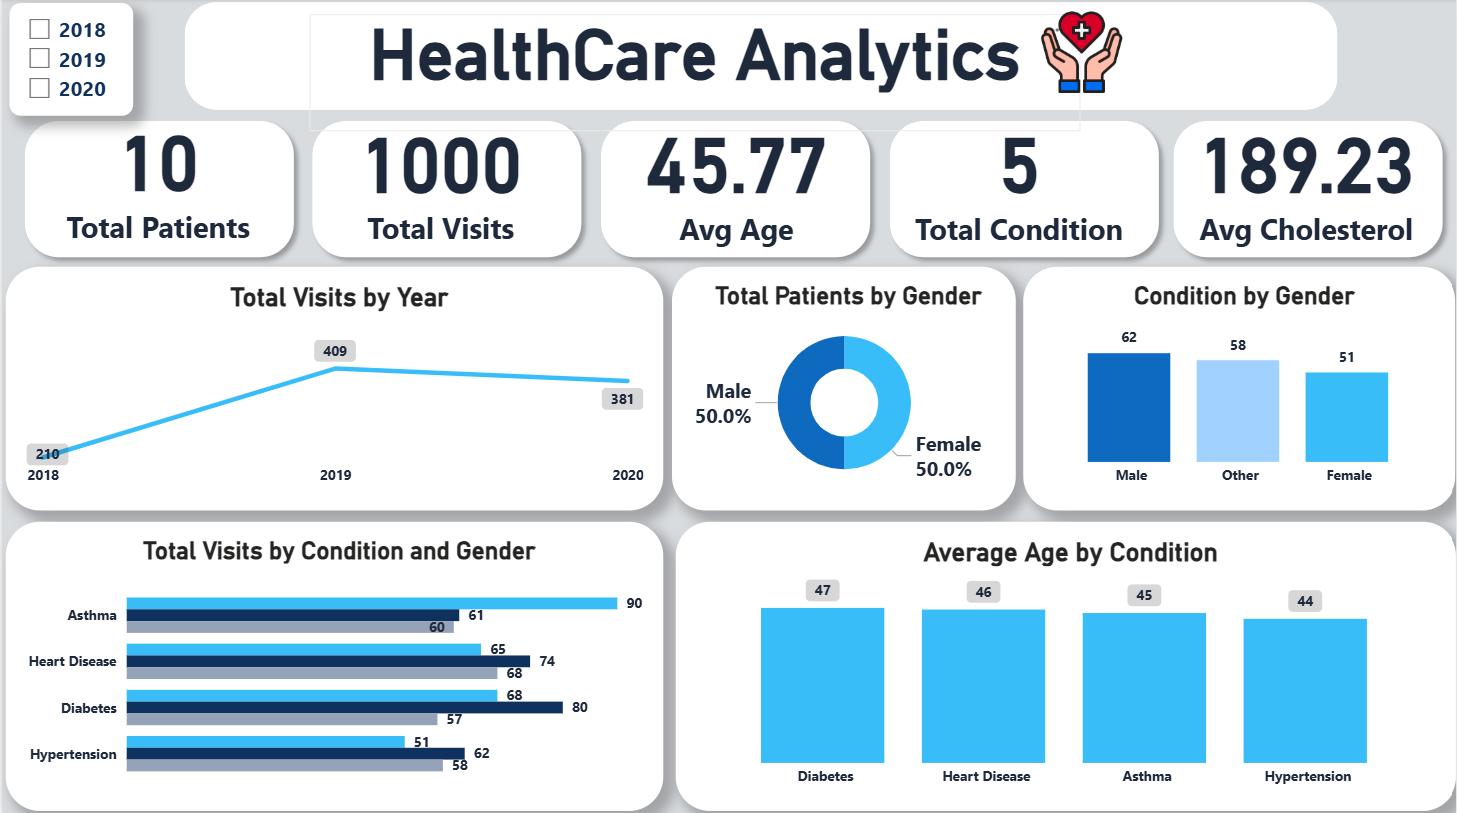

The dashboard page shown, as its layout file describes it:
{"tool":"powerbi","page":{"name":"Overview","canvas":[1280,720],"ordinal":0},"visuals":[{"type":"shape","box":[160.7,3.6,1014.3,95.2],"z":0},{"type":"shape","box":[1021.4,98.8,254.8,138.1],"z":1000},{"type":"shape","box":[771.4,98.8,254.8,138.1],"z":2000},{"type":"shape","box":[517.9,98.8,254.8,138.1],"z":3000},{"type":"shape","box":[264.3,98.8,254.8,138.1],"z":4000},{"type":"shape","box":[10.7,98.8,254.8,138.1],"z":5000},{"type":"textbox","title":"HealthCare Analytics","box":[270.5,14.3,678.4,103.4],"z":6000},{"type":"image","box":[878.6,4.4,142.9,86.9],"z":7000},{"type":"card","fields":{"Values":["Measures (2).Total Patients"]},"box":[35.7,79.8,204.8,146.4],"z":8000},{"type":"card","fields":{"Values":["Measures (2).Total Visits"]},"box":[267.9,85.7,235.7,138.1],"z":9000},{"type":"card","fields":{"Values":["Measures (2).Average Age"]},"box":[520.2,79.8,252.4,150],"z":10000},{"type":"card","fields":{"Values":["Measures (2).Total Condition"]},"box":[768.8,79.8,252.4,150],"z":11000},{"type":"card","fields":{"Values":["Measures (2).Average Cholesterol"]},"box":[1029.8,79.8,234.5,150],"z":12000},{"type":"lineChart","fields":{"Category":["HealthCare.Visit_Date.Variation.Date Hierarchy.Year","HealthCare.Visit_Date.Variation.Date Hierarchy.Quarter","HealthCare.Visit_Date.Variation.Date Hierarchy.Month","HealthCare.Visit_Date.Variation.Date Hierarchy.Day"],"Y":["Measures (2).Total Visits"]},"box":[3.6,235.9,578.6,214.3],"z":13000},{"type":"donutChart","fields":{"Category":["HealthCare.Gender"],"Y":["Measures (2).Total Patients"]},"box":[589.3,235.9,302.4,214.3],"z":14000},{"type":"clusteredColumnChart","title":"Condition by Gender","fields":{"Y":["Measures (2).Total Visits"],"Category":["HealthCare.Gender"]},"box":[898.8,235.9,381,214.3],"z":15000},{"type":"clusteredBarChart","fields":{"Series":["HealthCare.Gender"],"Category":["HealthCare.Condition"],"Y":["Measures (2).Total Visits"]},"box":[3.6,460.7,578.6,254.8],"z":16000},{"type":"clusteredColumnChart","title":"Average Age by Condition","fields":{"Category":["HealthCare.Condition"],"Y":["Measures (2).Average Age"]},"box":[592.9,460.7,686.9,254.8],"z":17000},{"type":"slicer","fields":{"Values":["HealthCare.Year"]},"box":[6.6,4.4,108.9,99],"z":17001}]}

Visuals, with their boxes in screenshot pixels (x1, y1, x2, y2), scaled from the page's 1280x720 canvas onto the 1457x813 screenshot:
shape: <box>183,4,1337,112</box>
shape: <box>1163,112,1453,267</box>
shape: <box>878,112,1168,267</box>
shape: <box>590,112,880,267</box>
shape: <box>301,112,591,267</box>
shape: <box>12,112,302,267</box>
"HealthCare Analytics" textbox: <box>308,16,1080,133</box>
image: <box>1000,5,1163,103</box>
card - Measures (2).Total Patients: <box>41,90,274,255</box>
card - Measures (2).Total Visits: <box>305,97,573,253</box>
card - Measures (2).Average Age: <box>592,90,879,259</box>
card - Measures (2).Total Condition: <box>875,90,1162,259</box>
card - Measures (2).Average Cholesterol: <box>1172,90,1439,259</box>
lineChart - HealthCare.Visit_Date.Variation.Date Hierarchy.Year x HealthCare.Visit_Date.Variation.Date Hierarchy.Quarter: <box>4,266,663,508</box>
donutChart - HealthCare.Gender x Measures (2).Total Patients: <box>671,266,1015,508</box>
"Condition by Gender" clusteredColumnChart: <box>1023,266,1456,508</box>
clusteredBarChart - HealthCare.Gender x HealthCare.Condition: <box>4,520,663,808</box>
"Average Age by Condition" clusteredColumnChart: <box>675,520,1456,808</box>
slicer - HealthCare.Year: <box>8,5,131,117</box>
